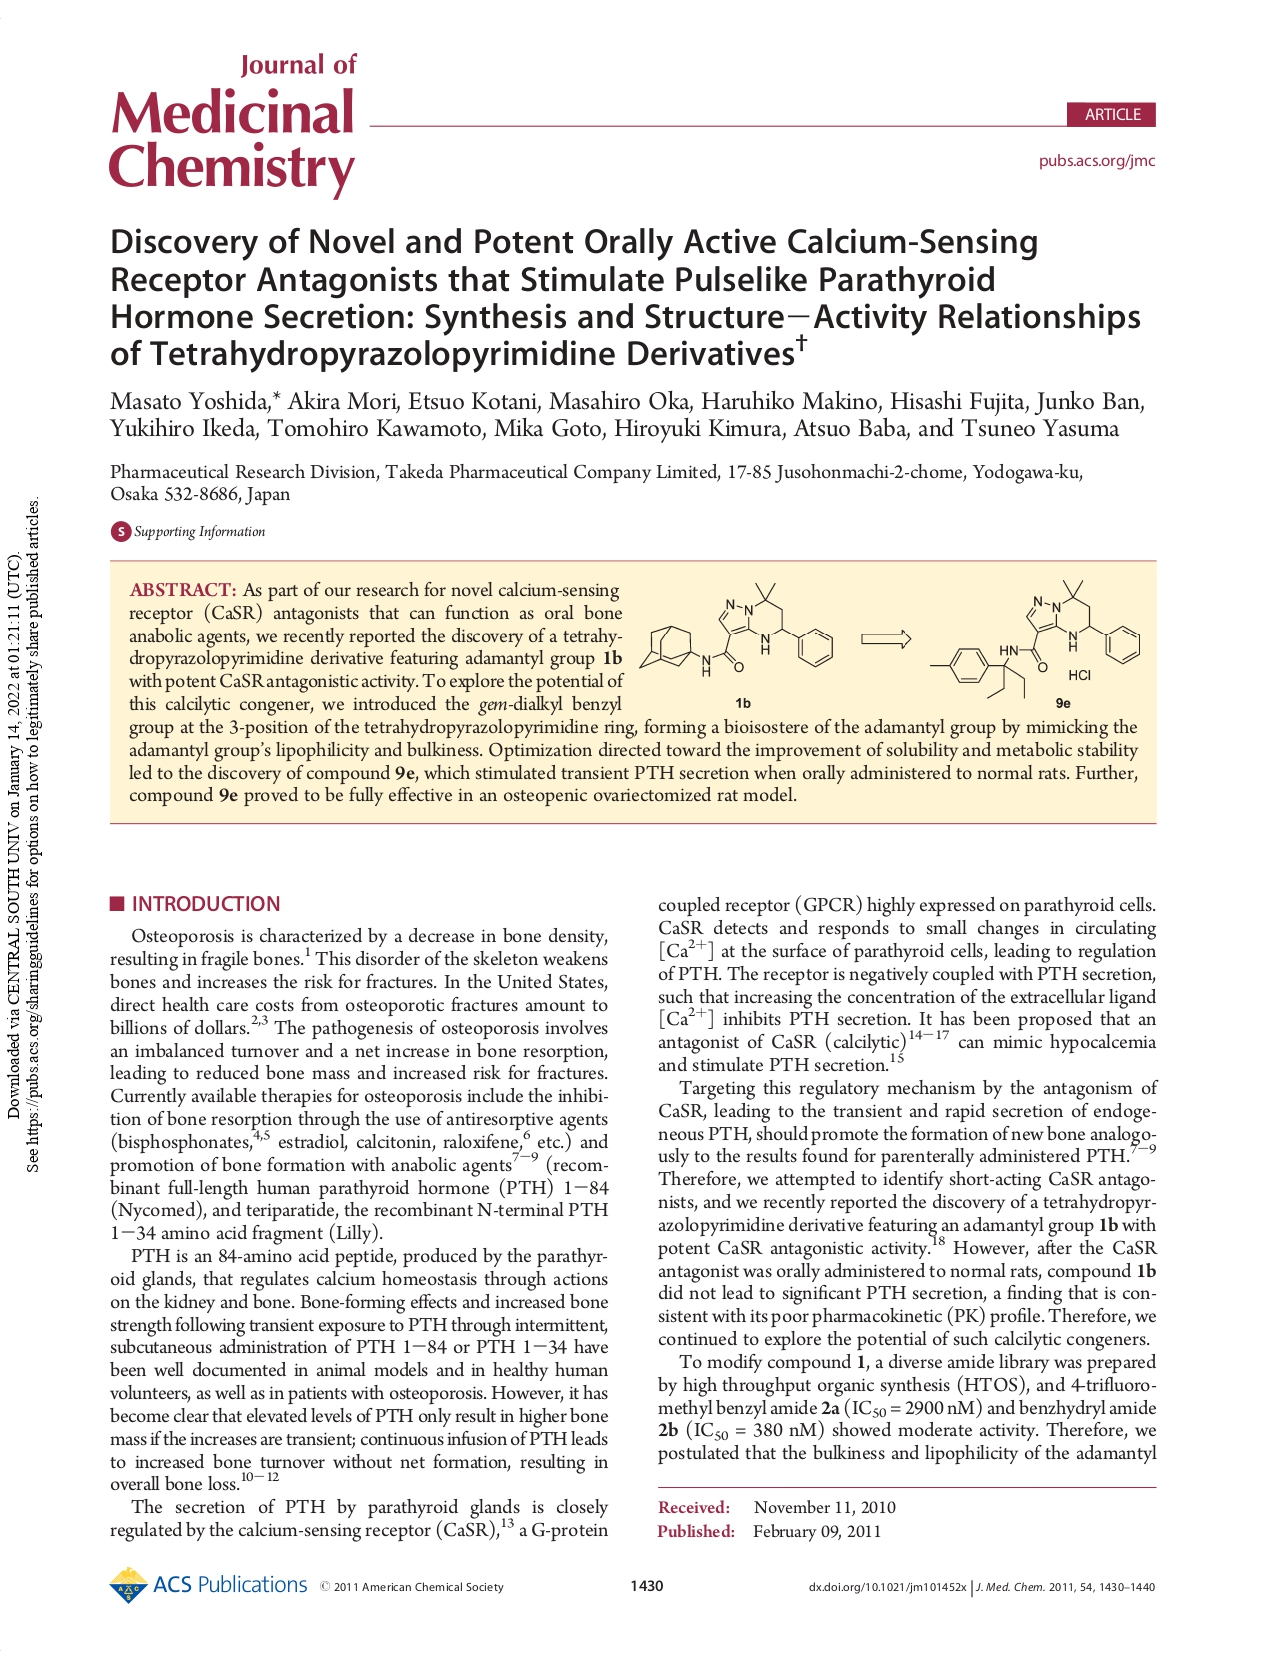exist_molecular: (930, 577, 1145, 702), (637, 578, 836, 680)
